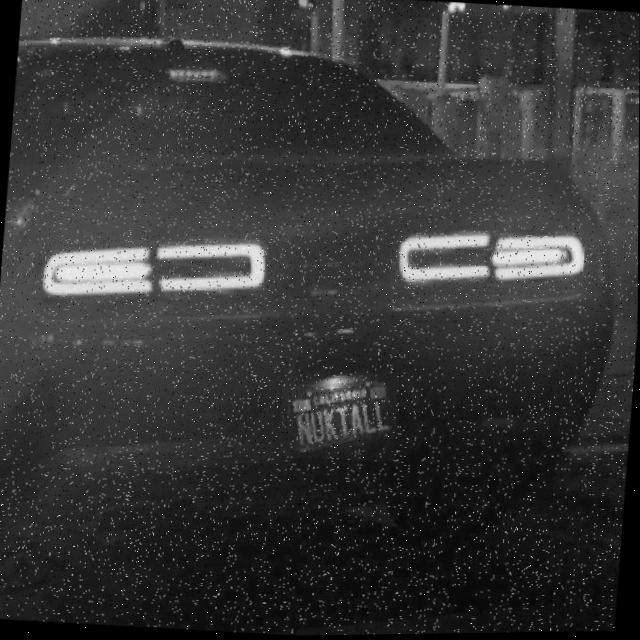LicensePlate: (283, 374, 395, 457)
